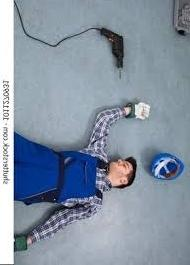fall: (29, 78, 140, 265)
